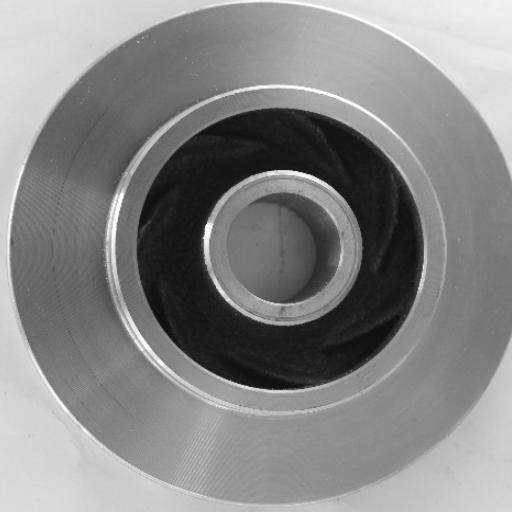polished_casting: (10, 1, 512, 506)
